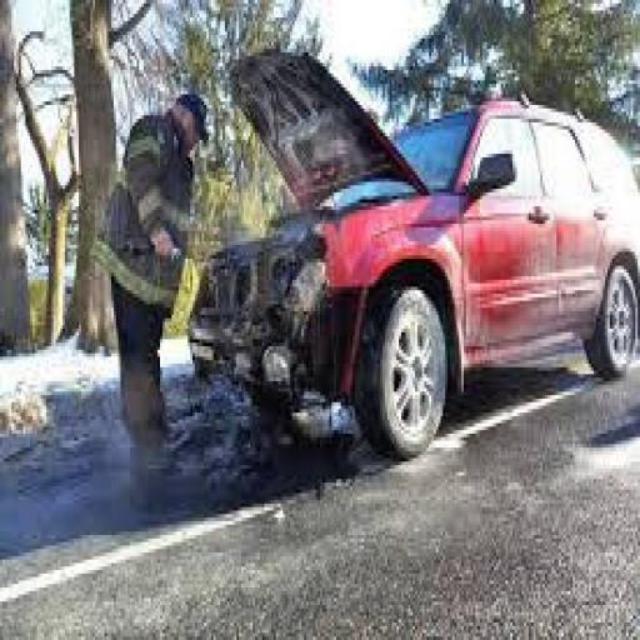no part: (186, 231, 360, 402)
